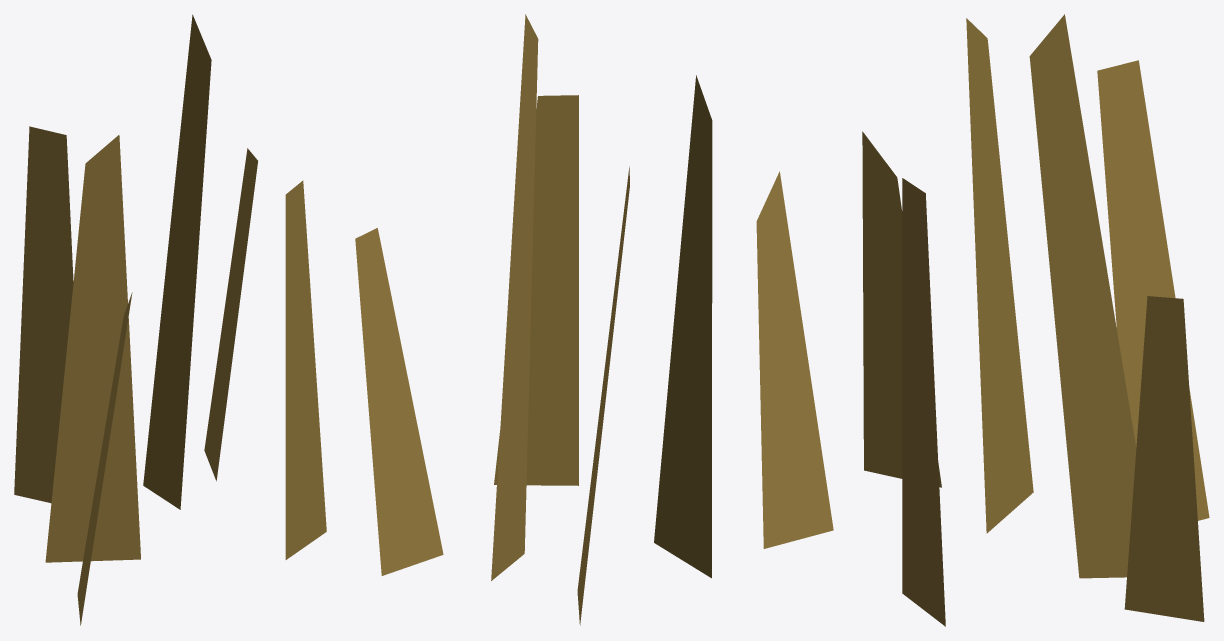
File: Grass1Dry.fbx
3 views of the same model, side by side, from view 1: azimuth 30°, elevation 25°; view 2: azimuth 150°, elevation 25°; view 3: azimuth 270°, elevation 25° (orthographic). The views are drawn at different scales.
Visible parts, largest first — view 1: Plane; view 2: Plane; view 3: Plane.
Part boxes in pixels (x1,y1,x2,y2): Plane: (14,14,326,625); Plane: (355,14,833,625); Plane: (862,14,1209,626).
Size of the model in its own units: 0.1851 by 0.2873 by 0.1593.
